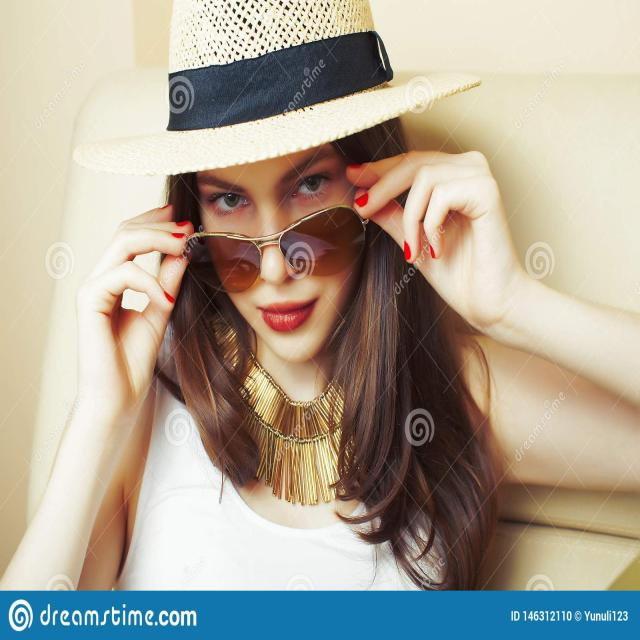hat: (73, 1, 482, 364)
